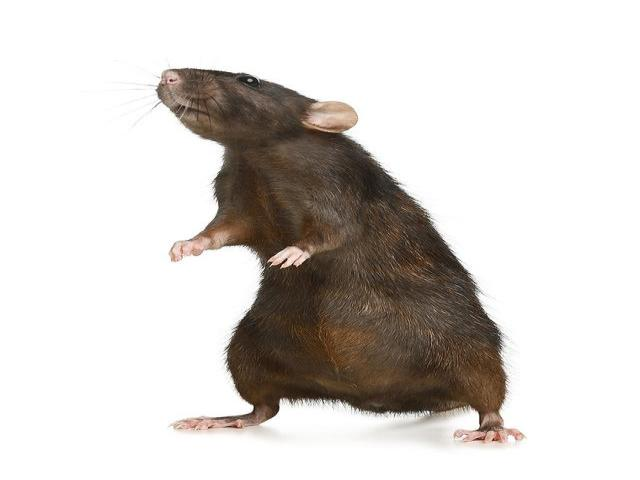Tikus: (140, 60, 529, 454)
